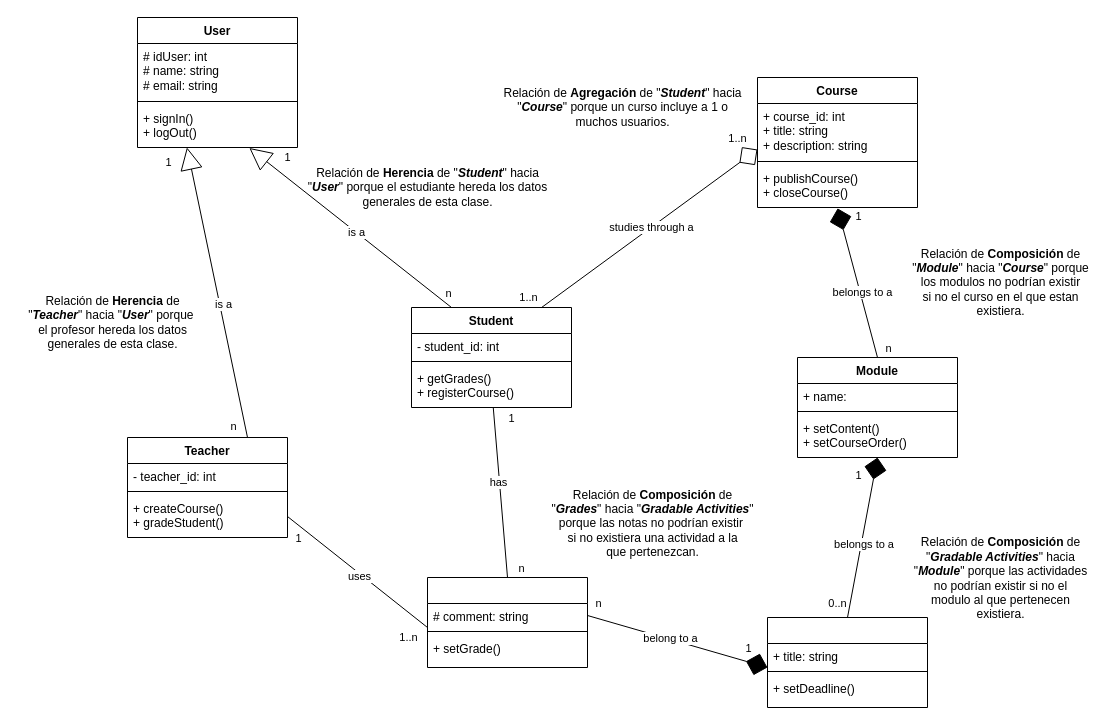
The diagram is 1117 pixels wide and 728 high, and some of its shapes have lost their labels. Here are the shapes that lost their labels. From the top down, the box of each, then its label:
(426, 576, 588, 668): Grades
(766, 616, 928, 708): Gradable Activities
